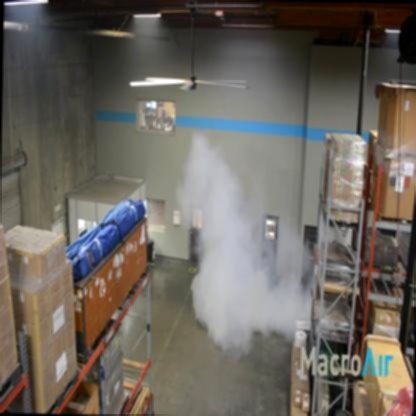smoke: (190, 139, 292, 332)
